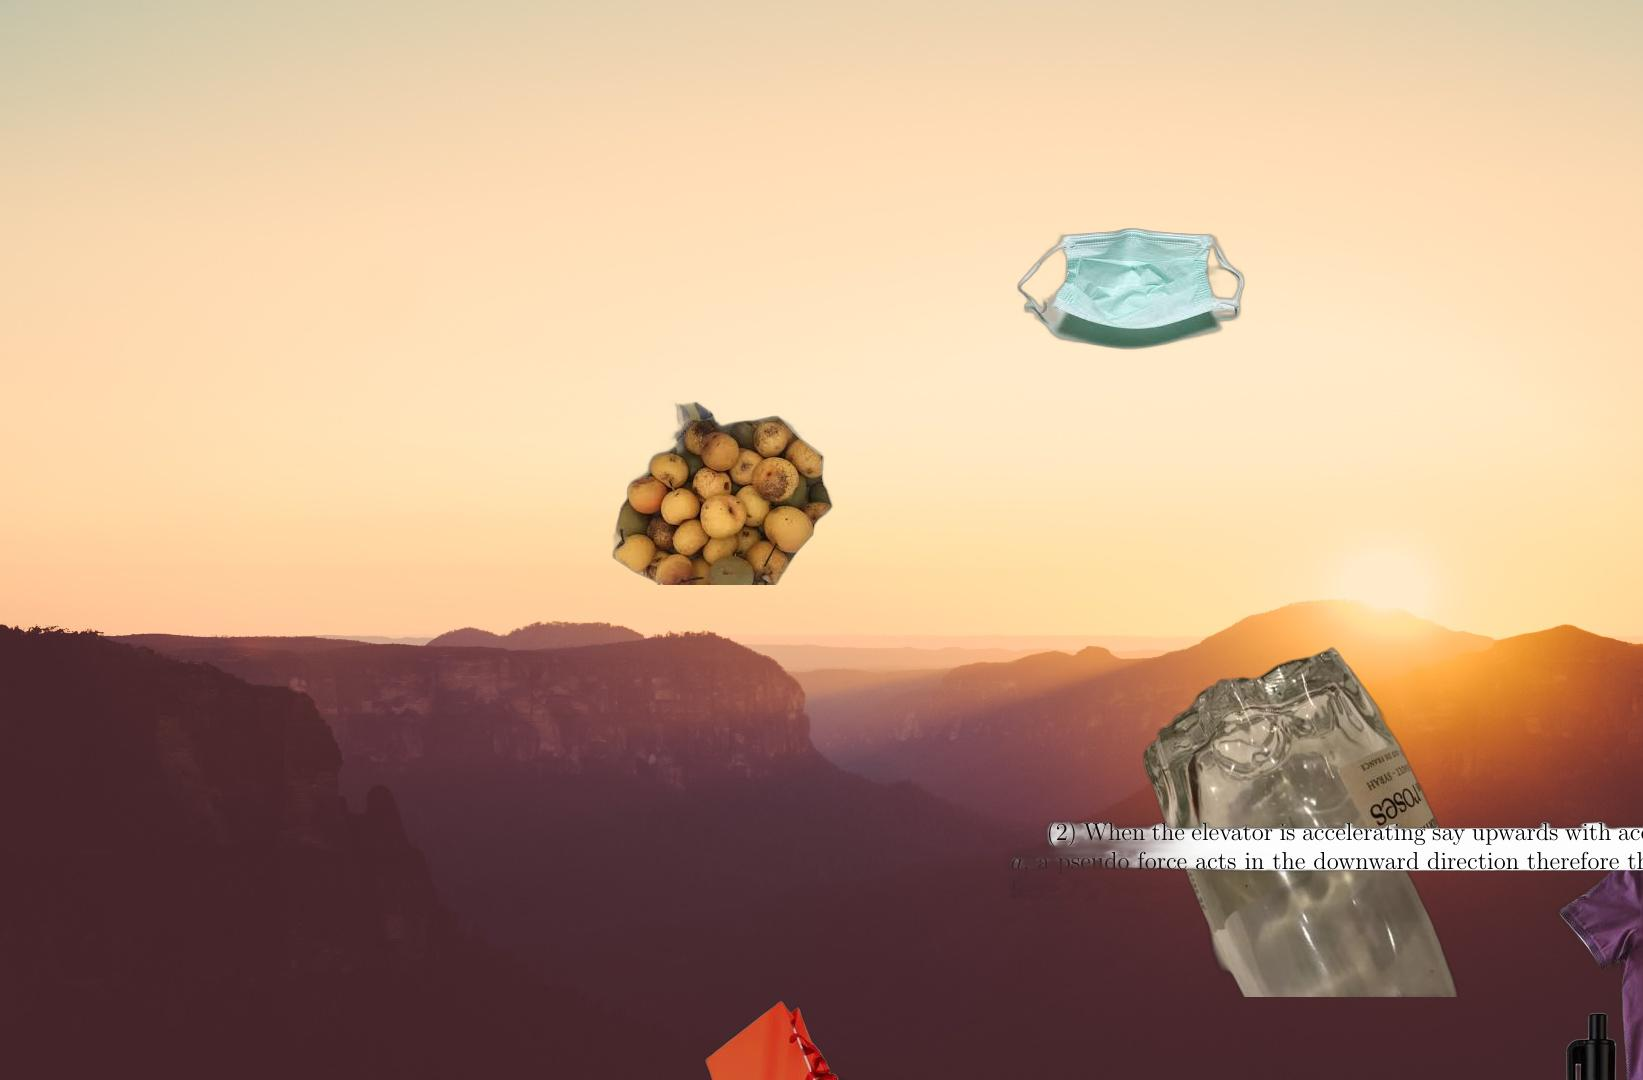biological: (610, 399, 837, 585)
clothes: (1555, 812, 1643, 1080)
glass: (1139, 644, 1463, 997)
paper-bag: (702, 997, 923, 1080)
penholder: (1562, 1006, 1643, 1080)
trash: (1016, 225, 1246, 353)
trashbox-cardboard: (969, 812, 1643, 974)
